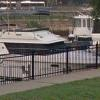Boat: (1, 20, 80, 63)
